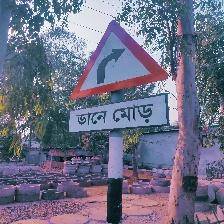Right-turn: (68, 18, 173, 135)
